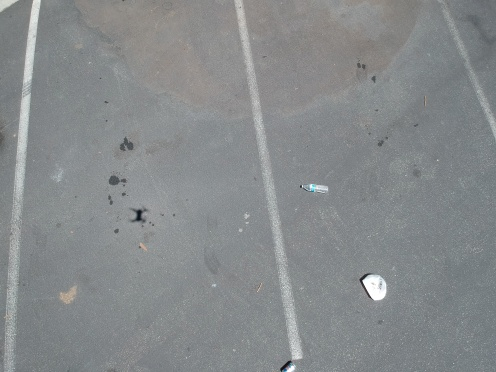bottle: (296, 177, 330, 197)
can: (269, 355, 300, 372)
plastic bag: (355, 271, 392, 305)
